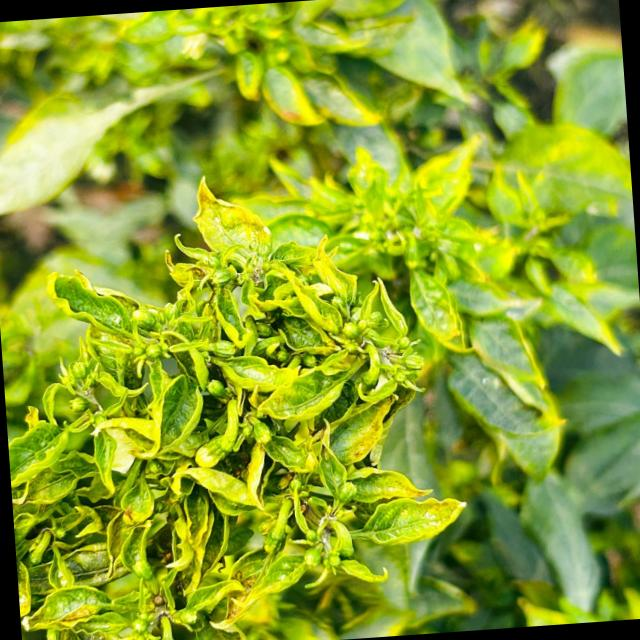Chilli_Leaf_Curl: (0, 157, 475, 640)
